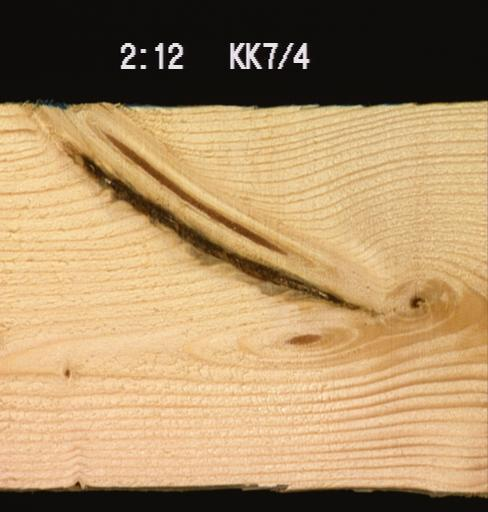edge_knot: (67, 471, 97, 489)
small_knot: (403, 287, 431, 310), (57, 361, 79, 388)
